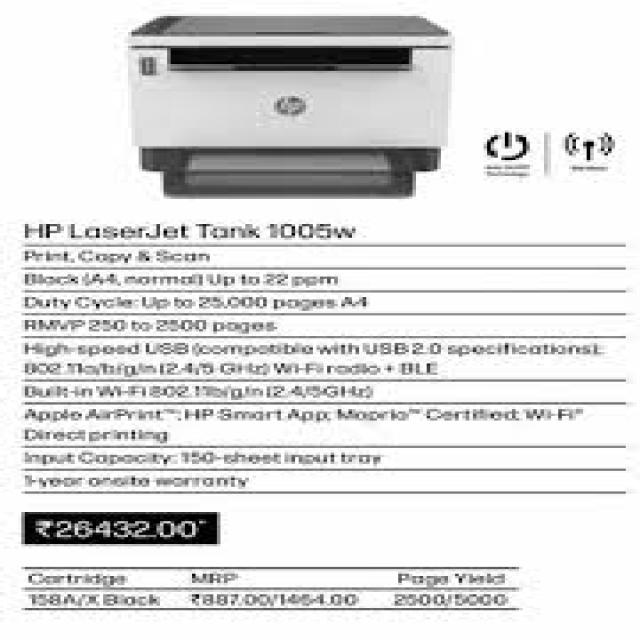printer: (121, 12, 451, 196)
